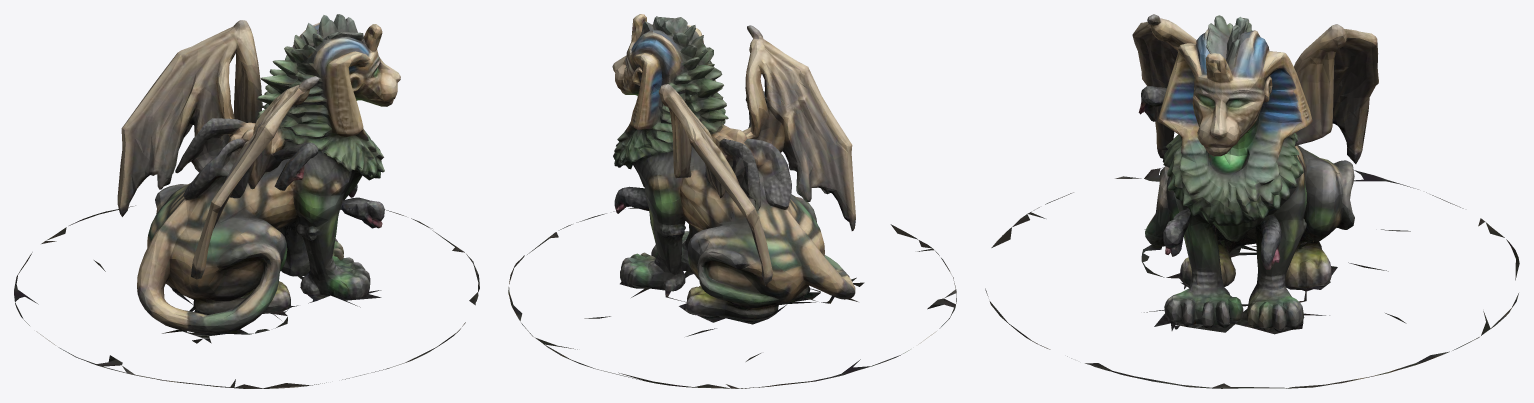
File: vespera__venomwing.glb
The picture shows the model from 3 angles, left to right: view 1: azimuth 30°, elevation 25°; view 2: azimuth 150°, elevation 25°; view 3: azimuth 270°, elevation 25°; orthographic projection. The views are drawn at different scales.
Visible parts, largest first — view 1: world; view 2: world; view 3: world.
Boxes of the visible parts, x1=… form: world: x1=14, y1=14, x2=479, y2=388; world: x1=508, y1=14, x2=956, y2=388; world: x1=985, y1=14, x2=1519, y2=388.
Size of the model in its own units: 1 by 0.6296 by 1.
1 material, 1 textured.
